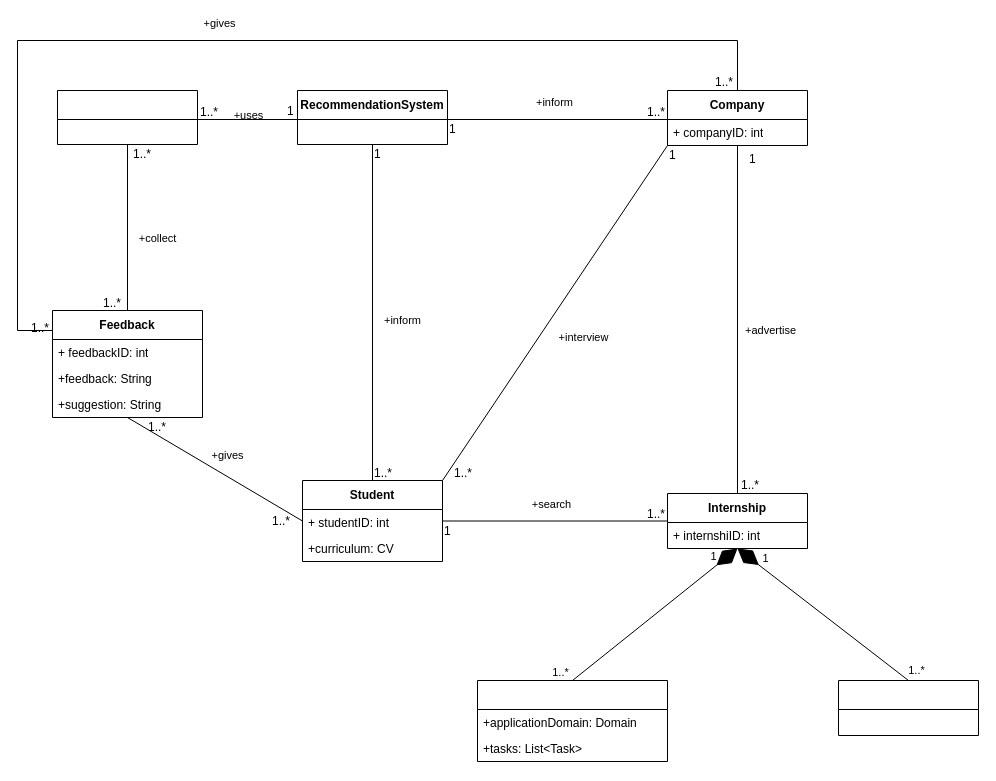
Some shapes in this 996 by 781 pixel diagram are drawn without their labels. Here are the shapes that lost their labels. From the top down, the box of each, then its label:
(56, 90, 198, 144): StaticalAnalysis
(476, 680, 668, 762): Project
(838, 680, 978, 736): Term
